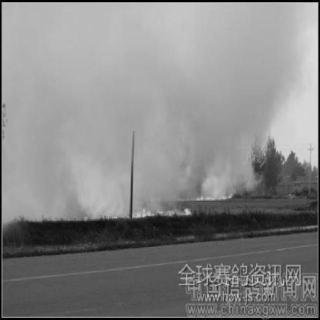Fire: (82, 208, 90, 224)
